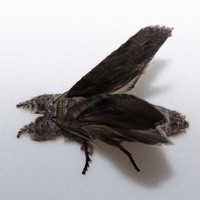insect: (17, 25, 187, 173)
